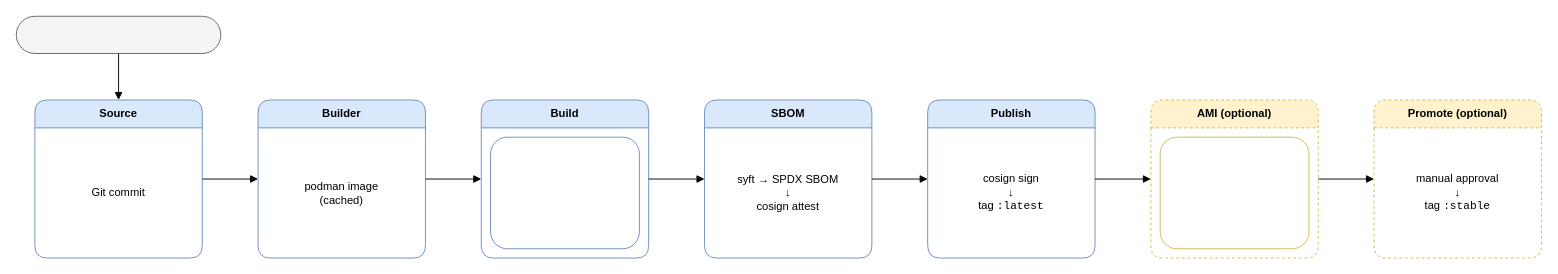
Image size: 1558x274. Some labels were removed from this diagram. Each missing label, with the centre of its shape:
amd64 build lint push: (564,192)
push to branch / weekly schedule: (118,34)
x86_64 bib → snapshot → AMI → SSM param: (1234,192)
